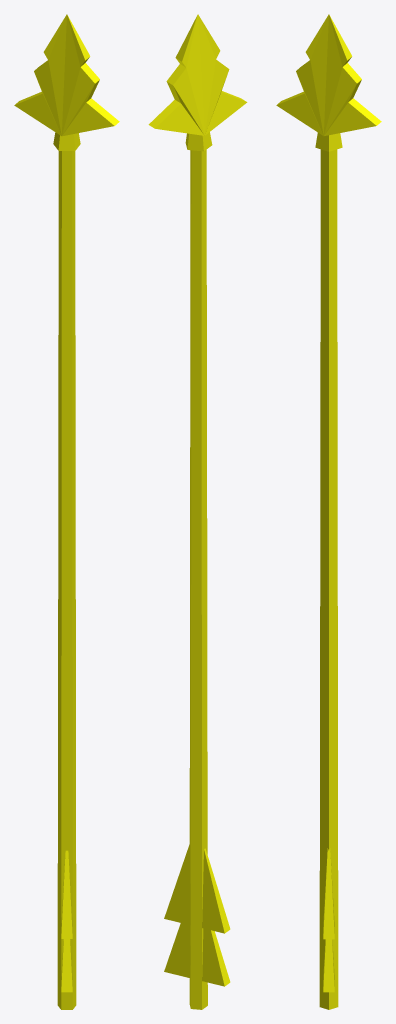
File: _arrow_b_16.glb
3 renders of one model, left to right at view 1: azimuth 90°, elevation 25°; view 2: azimuth 150°, elevation 25°; view 3: azimuth 270°, elevation 25°, orthographic.
Visible parts, largest first — view 1: arrow_b_16; view 2: arrow_b_16; view 3: arrow_b_16.
Boxes of the visible parts, left/top/right/bottom form: arrow_b_16: left=14, top=14, right=119, bottom=1009; arrow_b_16: left=148, top=14, right=247, bottom=1009; arrow_b_16: left=276, top=14, right=381, bottom=1009.
Bounding box in the file's own units: 0.0379 × 0.592 × 0.0571.
1 material, 1 textured.
